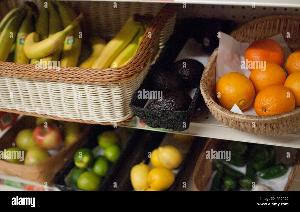apple: (1, 122, 84, 176)
avocado: (140, 41, 218, 123)
banana: (1, 4, 146, 80)
lemon: (130, 136, 192, 198)
lime: (66, 128, 134, 187)
orange: (202, 27, 300, 129)
